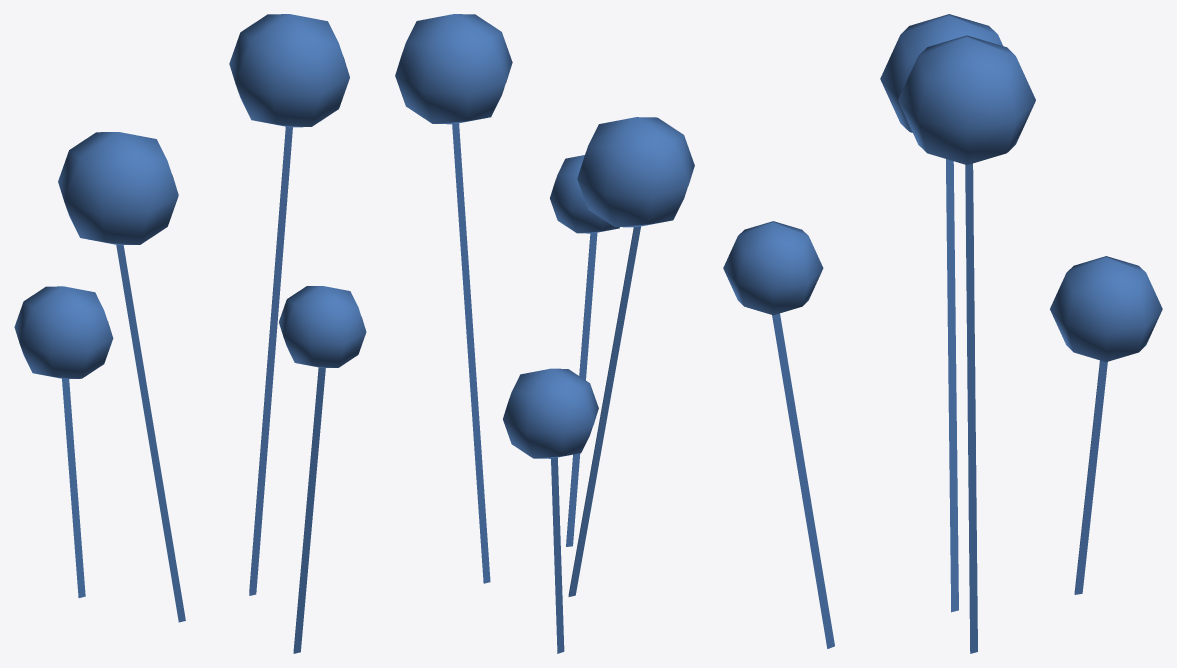
Rendered from Flower_3.fbx.
3 views of the same model, side by side, from view 1: azimuth 30°, elevation 25°; view 2: azimuth 150°, elevation 25°; view 3: azimuth 270°, elevation 25° (orthographic). The views are drawn at different scales.
Visible parts, largest first — view 1: Line015; view 2: Line015; view 3: Line015.
Part boxes in pixels (box(x1,y1,x2,y2)): Line015: box(14, 14, 366, 653); Line015: box(395, 14, 694, 653); Line015: box(723, 14, 1162, 653).
Bounding box in the file's own units: 12.1 × 23.35 × 14.5.
